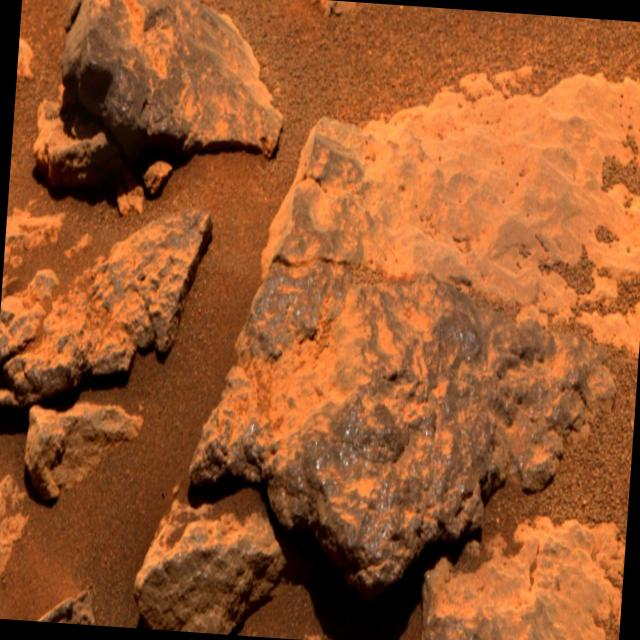red-sand: (0, 0, 640, 628), (7, 0, 141, 254), (522, 361, 638, 540), (240, 588, 314, 640), (0, 412, 24, 478)
stone: (190, 75, 640, 583), (36, 0, 283, 207), (6, 211, 211, 404), (422, 516, 623, 640), (134, 493, 286, 634), (25, 402, 143, 498), (0, 268, 57, 365), (0, 475, 28, 577)
